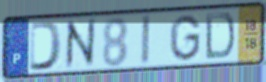8: (101, 15, 132, 69)
D: (28, 20, 64, 73), (204, 11, 237, 62)
G: (168, 13, 203, 63)
I: (139, 13, 152, 67)
N: (64, 16, 98, 72)
